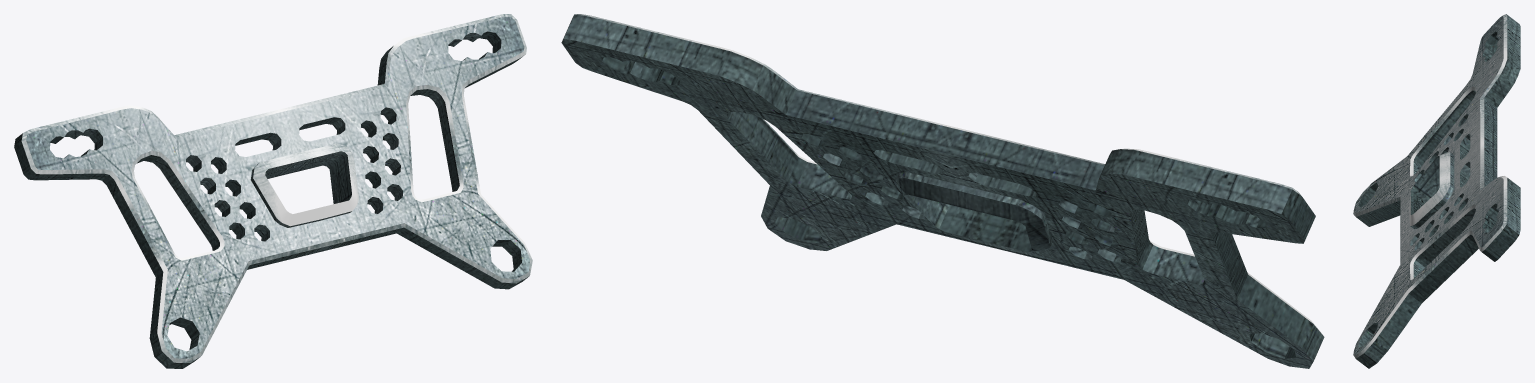
The model's file is bodyholder02.FBX.
3 views of the same model, side by side, from view 1: azimuth 30°, elevation 25°; view 2: azimuth 150°, elevation 25°; view 3: azimuth 270°, elevation 25° (orthographic). The views are drawn at different scales.
Visible parts, largest first — view 1: bodyholder02; view 2: bodyholder02; view 3: bodyholder02.
Part boxes in pixels (<box>): bodyholder02: <box>14,14,532,368</box>; bodyholder02: <box>561,14,1324,368</box>; bodyholder02: <box>1353,14,1520,368</box>.
Size of the model in its own units: 0.6258 by 0.2403 by 0.2065.
